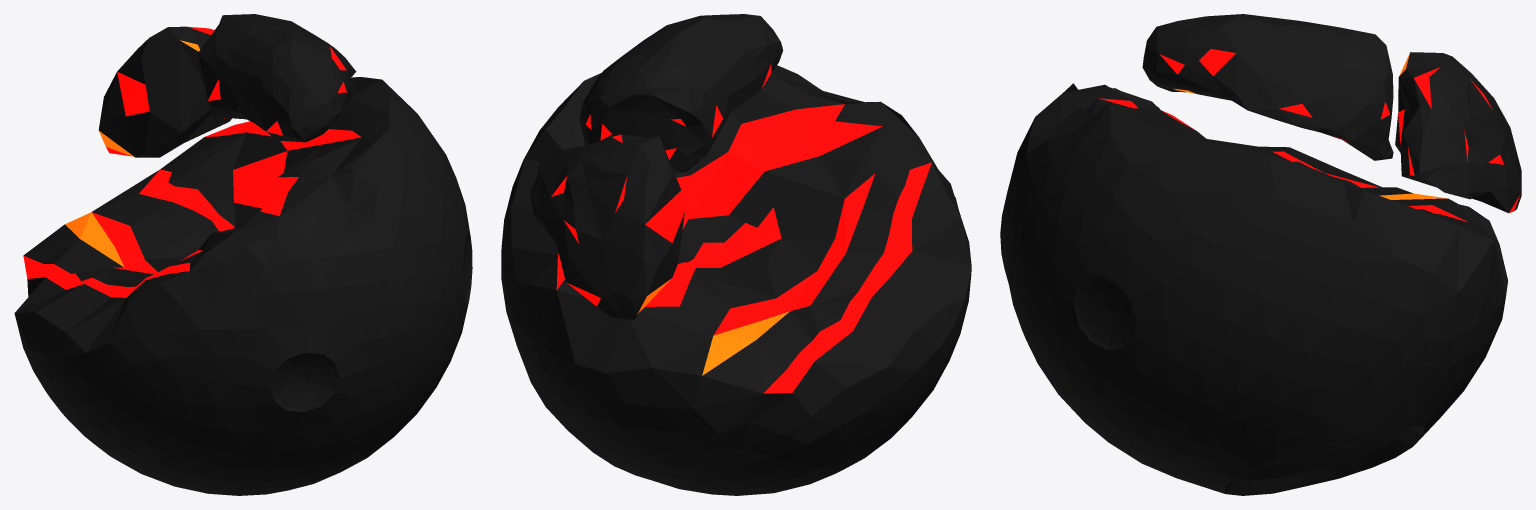
Rendered from Planet15.glb.
3 renders of one model, left to right at view 1: azimuth 30°, elevation 25°; view 2: azimuth 150°, elevation 25°; view 3: azimuth 270°, elevation 25°, orthographic. The views are drawn at different scales.
Visible parts, largest first — view 1: Planet4-main, Planet4-right-big, Planet4-right-small; view 2: Planet4-main, Planet4-right-small, Planet4-right-big; view 3: Planet4-main, Planet4-right-big, Planet4-right-small.
Part boxes in pixels (x1=…): Planet4-main: x1=14, y1=77, x2=472, y2=495; Planet4-right-big: x1=197, y1=14, x2=356, y2=142; Planet4-right-small: x1=98, y1=26, x2=231, y2=157; Planet4-main: x1=501, y1=65, x2=971, y2=495; Planet4-right-small: x1=529, y1=134, x2=684, y2=319; Planet4-right-big: x1=580, y1=14, x2=783, y2=173; Planet4-main: x1=1000, y1=83, x2=1507, y2=495; Planet4-right-big: x1=1142, y1=14, x2=1393, y2=160; Planet4-right-small: x1=1395, y1=52, x2=1521, y2=213.
Size of the model in its own units: 9.9 by 10.23 by 10.17.
